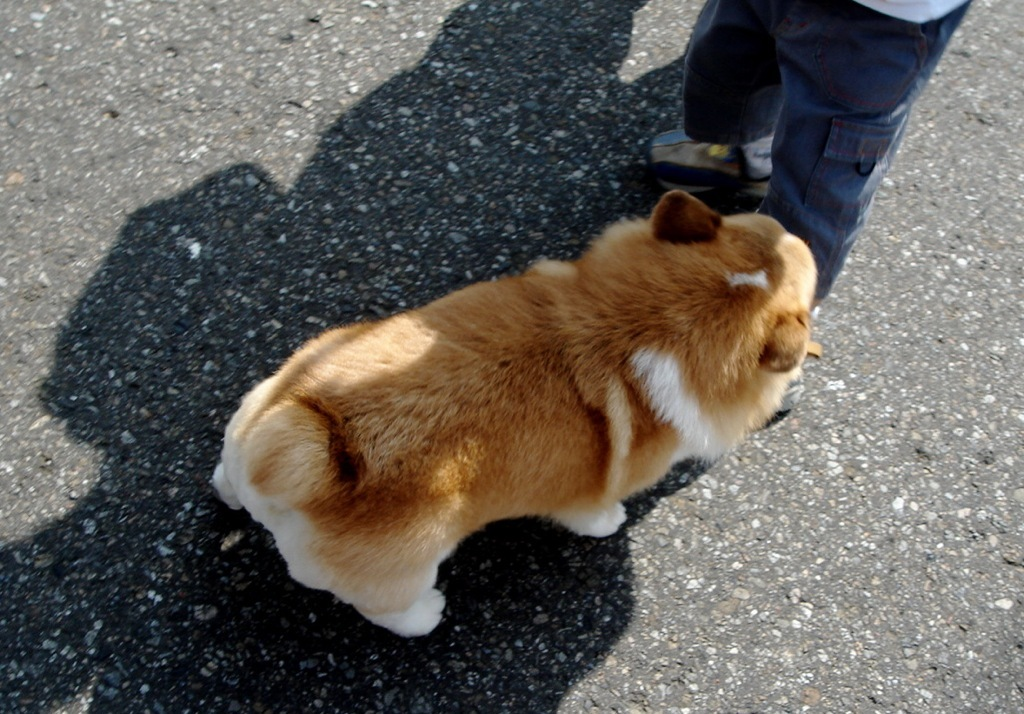Person: (646, 0, 974, 311)
